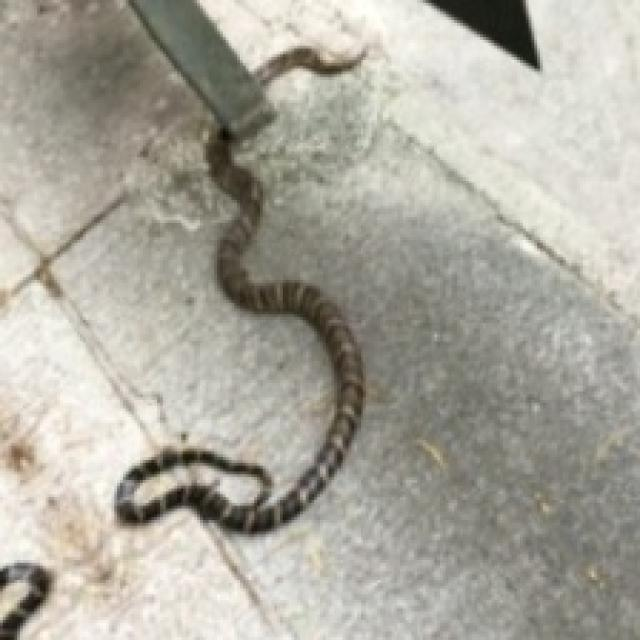king cobra: (0, 0, 340, 637), (114, 129, 363, 531)
